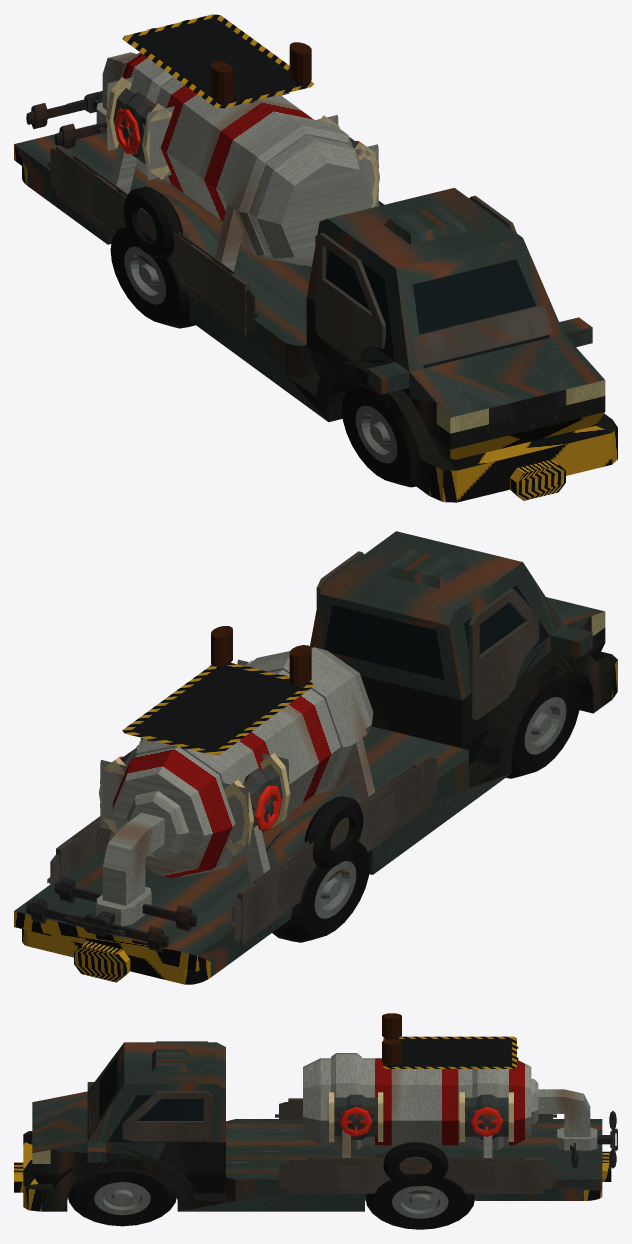
The model's file is convoy-tanker.glb.
3 renders of one model, top to bottom at view 1: azimuth 30°, elevation 25°; view 2: azimuth 150°, elevation 25°; view 3: azimuth 270°, elevation 25°, orthographic. The views are drawn at different scales.
Parts seen in each view (by area): view 1: tanker-body, tanker-tank, tanker-bed-skirt--1, tanker-boarding-plate, tanker-cab-door--1, tanker-lower-windscreen-plate, tanker-valve-1, tanker-salvage-tyre--1, tanker-rear-drivetrain, tanker-valve-cap-1-0, tanker-warning-lamp-1, tanker-warning-lamp-0; view 2: tanker-body, tanker-tank, tanker-boarding-plate, tanker-bed-skirt--1, tanker-cab-door--1, tanker-rear-drivetrain, tanker-valve-1, tanker-salvage-tyre--1, tanker-bed-skirt-1, tanker-valve-cap-0-0, tanker-valve-cap-1-1, tanker-warning-lamp-0 (+1 smaller); view 3: tanker-body, tanker-tank, tanker-bed-skirt-1, tanker-boarding-plate, tanker-cab-door-1, tanker-valve-0, tanker-valve-2, tanker-salvage-tyre-1, tanker-rear-drivetrain, tanker-bed-skirt--1, tanker-lower-windscreen-plate, tanker-warning-lamp-1 (+1 smaller).
Boxes of the visible parts, x1,y1,x2,y2 form: tanker-body: (14, 124, 617, 502); tanker-tank: (96, 52, 373, 271); tanker-bed-skirt--1: (47, 145, 258, 334); tanker-boarding-plate: (122, 14, 313, 108); tanker-cab-door--1: (315, 232, 385, 360); tanker-lower-windscreen-plate: (411, 305, 552, 365); tanker-valve-1: (106, 77, 172, 179); tanker-salvage-tyre--1: (123, 186, 182, 259); tanker-rear-drivetrain: (26, 91, 107, 148); tanker-valve-cap-1-0: (147, 106, 174, 180); tanker-warning-lamp-1: (289, 42, 311, 85); tanker-warning-lamp-0: (211, 61, 232, 104); tanker-body: (14, 531, 617, 984); tanker-tank: (96, 647, 374, 926); tanker-boarding-plate: (122, 663, 313, 754); tanker-bed-skirt--1: (229, 755, 439, 943); tanker-cab-door--1: (469, 588, 539, 720); tanker-rear-drivetrain: (26, 877, 196, 952); tanker-valve-1: (224, 753, 290, 855); tanker-salvage-tyre--1: (304, 796, 363, 868); tanker-bed-skirt-1: (47, 816, 111, 884); tanker-valve-cap-0-0: (100, 760, 127, 829); tanker-valve-cap-1-1: (221, 782, 248, 856); tanker-warning-lamp-0: (289, 645, 311, 688); tanker-body: (14, 1042, 611, 1229); tanker-tank: (303, 1053, 597, 1157); tanker-bed-skirt-1: (275, 1158, 556, 1193); tanker-boarding-plate: (383, 1036, 518, 1068); tanker-cab-door-1: (122, 1091, 212, 1141); tanker-valve-0: (459, 1092, 513, 1141); tanker-valve-2: (329, 1092, 383, 1141); tanker-salvage-tyre-1: (383, 1142, 448, 1186); tanker-rear-drivetrain: (570, 1111, 617, 1168); tanker-bed-skirt--1: (275, 1098, 556, 1120); tanker-lower-windscreen-plate: (88, 1078, 99, 1136); tanker-warning-lamp-1: (382, 1039, 401, 1066).
Size of the model in its own units: 3 by 3.5 by 11.
Materials: 16 (16 with a texture image).
